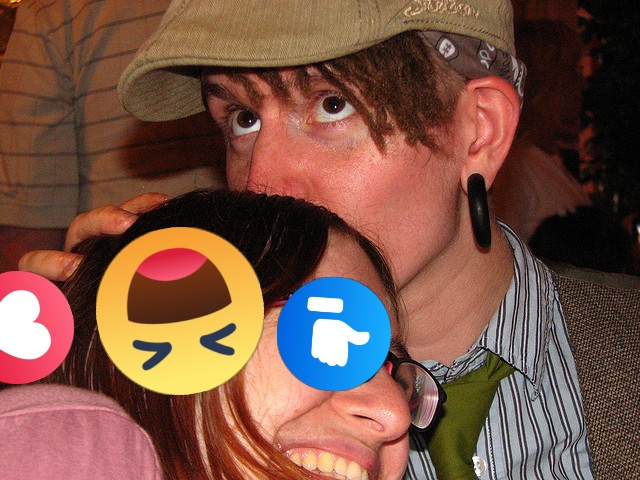haha: (96, 227, 264, 395)
like: (277, 277, 391, 391)
love: (0, 271, 74, 384)
